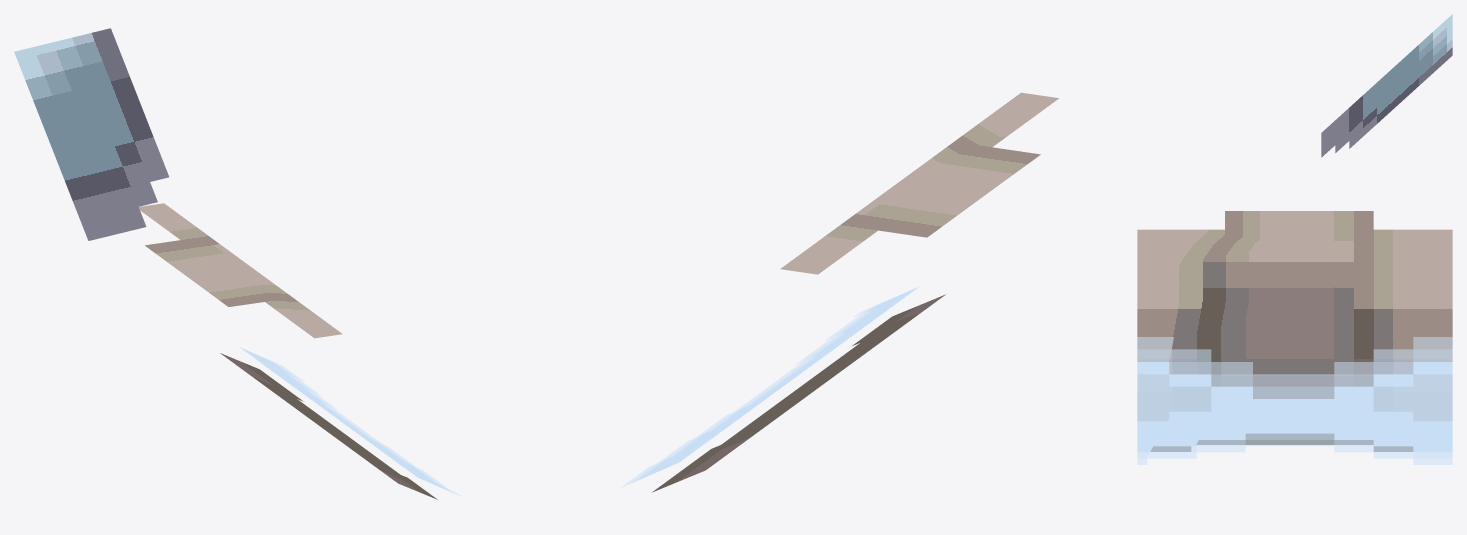
3 views of the same model, side by side, from view 1: azimuth 30°, elevation 25°; view 2: azimuth 150°, elevation 25°; view 3: azimuth 270°, elevation 25° (orthographic). The views are drawn at different scales.
Size of the model in its own units: 1.05 by 1.29 by 1.
3 materials, 3 textured.
